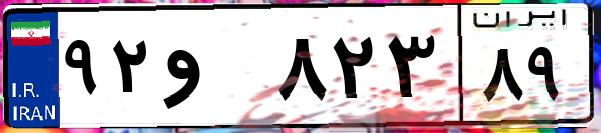2: (330, 28, 385, 110), (110, 28, 158, 98)
3: (385, 28, 445, 110)
8: (270, 28, 330, 110), (475, 38, 525, 113)
9: (57, 26, 110, 100), (525, 38, 570, 115)
و: (158, 20, 270, 120)
